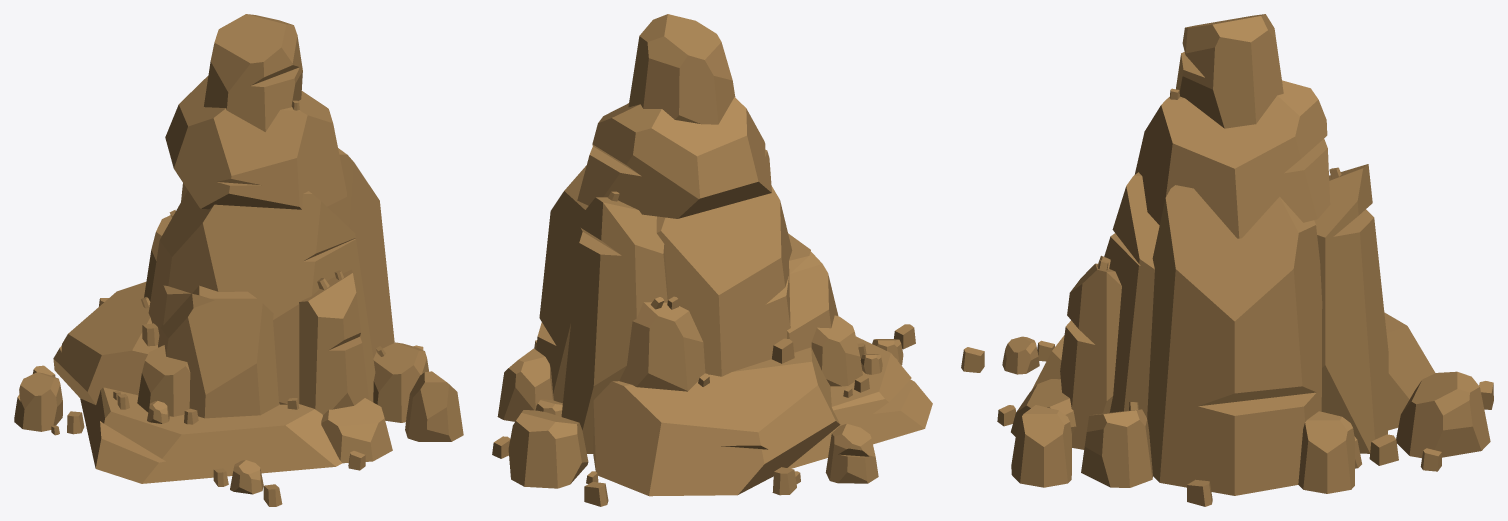
The model's file is roca02.fbx.
3 renders of one model, left to right at view 1: azimuth 30°, elevation 25°; view 2: azimuth 150°, elevation 25°; view 3: azimuth 270°, elevation 25°, orthographic. The views are drawn at different scales.
Parts seen in each view (by area): view 1: big_rock_01_Cylinder_012; view 2: big_rock_01_Cylinder_012; view 3: big_rock_01_Cylinder_012.
Part boxes in pixels (x1,y1,x2,y2): big_rock_01_Cylinder_012: (14, 14, 463, 506); big_rock_01_Cylinder_012: (492, 14, 932, 506); big_rock_01_Cylinder_012: (961, 14, 1493, 506).
Size of the model in its own units: 183 by 176 by 207.
